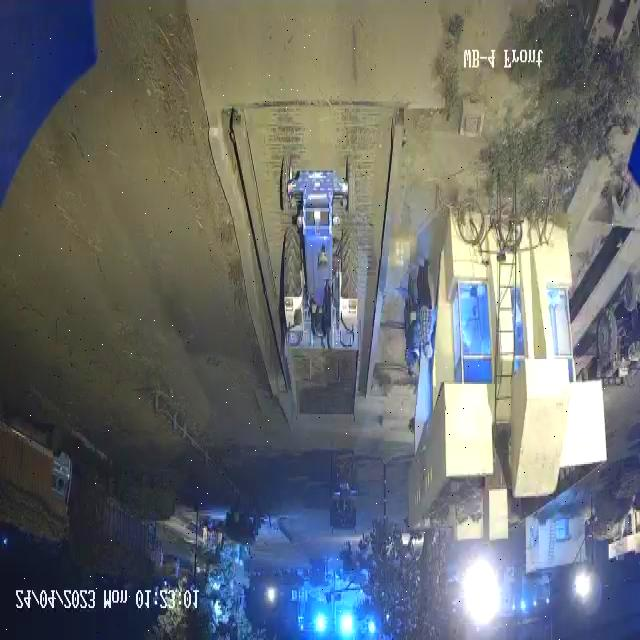Tratores - v5 YOLO V8L 2024-11-13: (276, 150, 362, 346), (596, 269, 640, 391), (329, 441, 357, 527)
